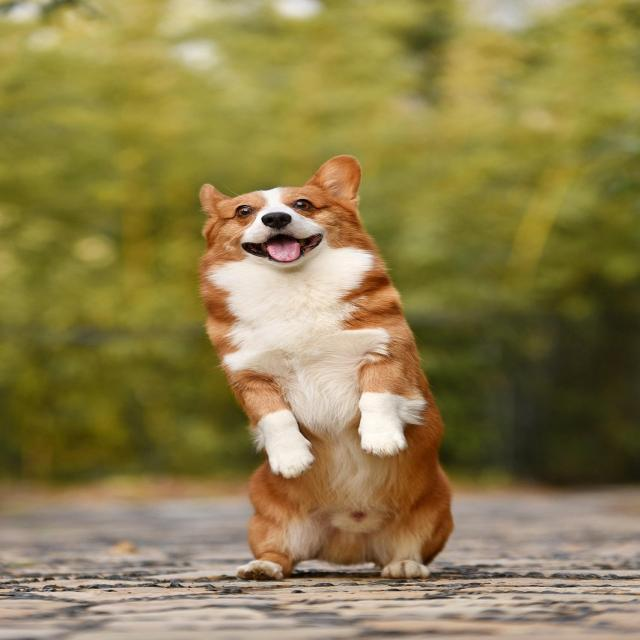dog: (194, 151, 457, 582)
